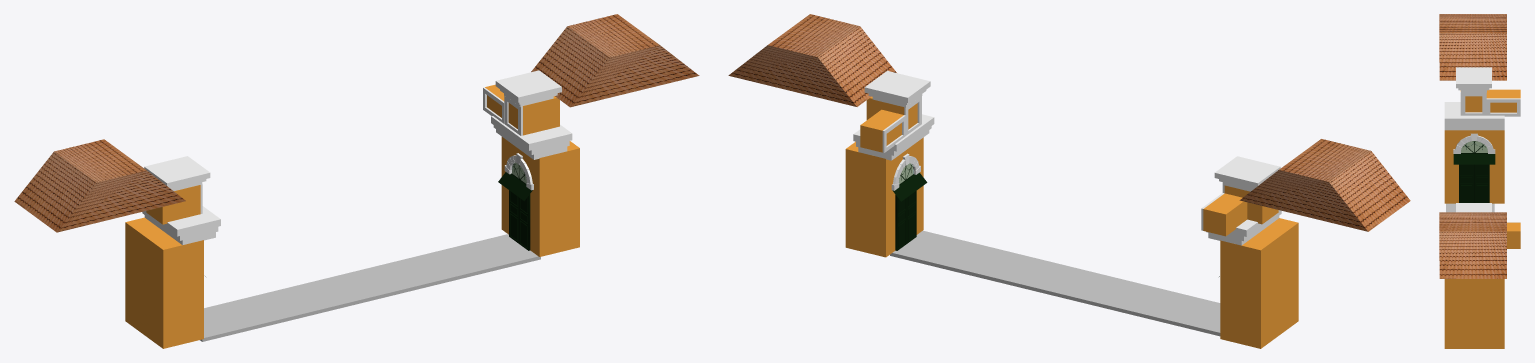
File: mercado_apenas_1.FBX
3 renders of one model, left to right at view 1: azimuth 30°, elevation 25°; view 2: azimuth 150°, elevation 25°; view 3: azimuth 270°, elevation 25°, orthographic. The views are drawn at different scales.
Parts seen in each view (by area): view 1: Box017, Box002, Box683, Box684, Box326, Box603, portas+aba; view 2: Box017, Box002, Box683, Box326, Box684, Box603, portas+aba; view 3: Box684, Box326, Box683, Box002, Box603, portas+aba, arco2, vidro redondo, Box017.
Boxes of the visible parts, x1=… form: Box017: x1=200, y1=234, x2=540, y2=341; Box002: x1=125, y1=84, x2=559, y2=348; Box683: x1=14, y1=139, x2=185, y2=232; Box684: x1=531, y1=14, x2=699, y2=107; Box326: x1=146, y1=95, x2=579, y2=256; Box603: x1=142, y1=70, x2=572, y2=245; portas+aba: x1=205, y1=163, x2=532, y2=276; Box017: x1=890, y1=230, x2=1220, y2=336; Box002: x1=860, y1=97, x2=1298, y2=348; Box683: x1=1239, y1=139, x2=1410, y2=231; Box326: x1=845, y1=97, x2=1278, y2=257; Box684: x1=728, y1=14, x2=896, y2=106; Box603: x1=853, y1=70, x2=1281, y2=245; portas+aba: x1=892, y1=164, x2=1219, y2=276; Box684: x1=1439, y1=212, x2=1506, y2=278; Box326: x1=1444, y1=89, x2=1520, y2=348; Box683: x1=1439, y1=14, x2=1506, y2=80; Box002: x1=1444, y1=89, x2=1520, y2=248; Box603: x1=1444, y1=67, x2=1520, y2=222; portas+aba: x1=1453, y1=141, x2=1495, y2=202; arco2: x1=1453, y1=133, x2=1495, y2=153; vidro redondo: x1=1461, y1=141, x2=1487, y2=152; Box017: x1=1446, y1=203, x2=1494, y2=212.
Size of the model in its own units: 1121 by 315 by 155.
